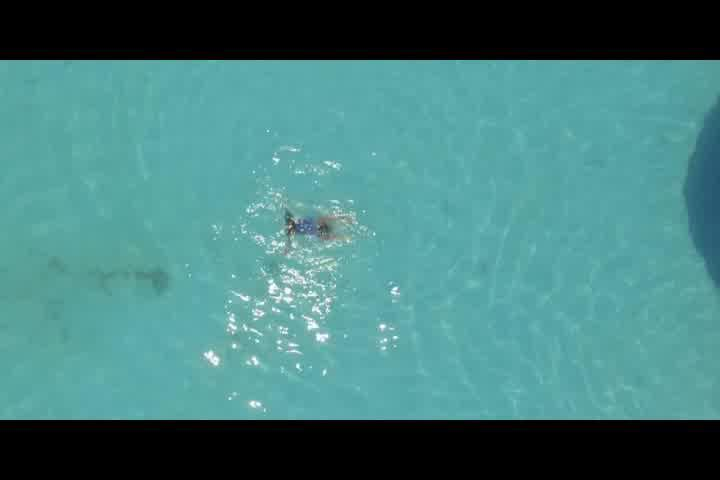swimmer: (286, 206, 354, 246)
